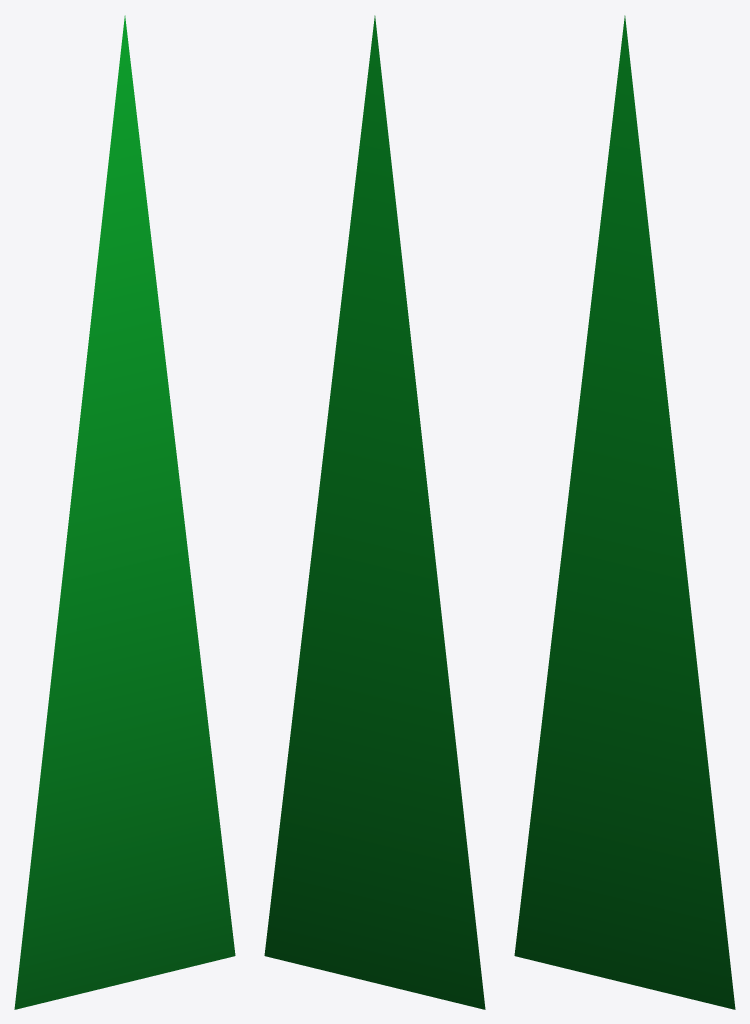
File: triangle.fbx
The picture shows the model from 3 angles, left to right: view 1: azimuth 30°, elevation 25°; view 2: azimuth 150°, elevation 25°; view 3: azimuth 330°, elevation 25°; orthographic projection.
Parts seen in each view (by area): view 1: triangle; view 2: triangle; view 3: triangle.
Boxes of the visible parts, x1=… form: triangle: x1=14, y1=15, x2=235, y2=1009; triangle: x1=264, y1=15, x2=485, y2=1009; triangle: x1=514, y1=15, x2=735, y2=1009.
Size of the model in its own units: 0.0477 by 0.2 by 2.38e-08.
